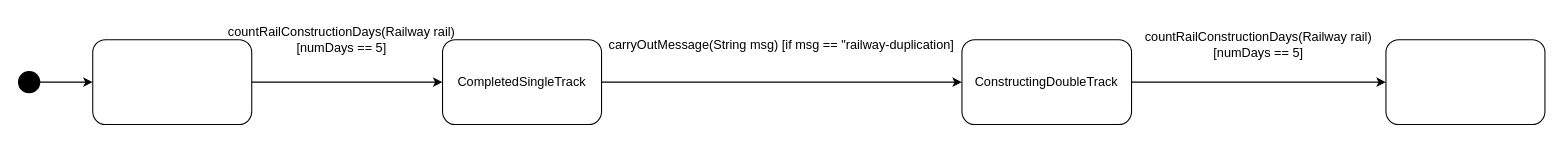
This 1563x143 diagram has some shape labels left out. The shapes that lost their labels are listed below. From the top down, each one's centre as x and y in pixels, then its label:
point (172, 82): ConstructingSingleTrack
point (1465, 82): CompletedDoubleTrack
